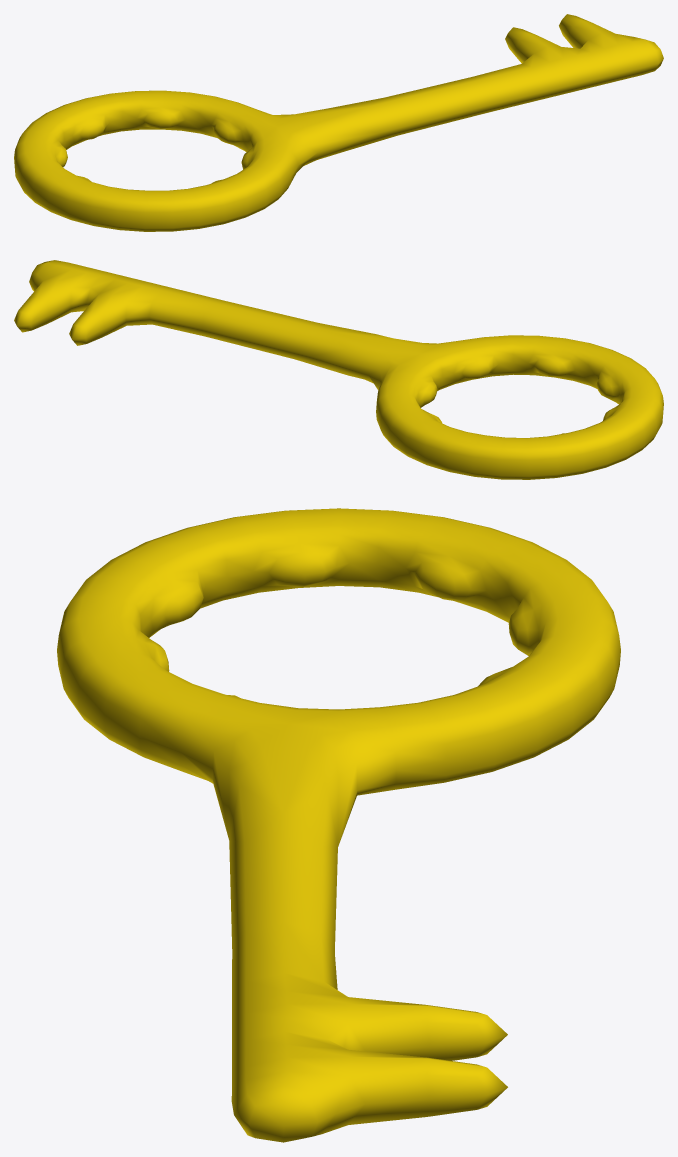
Rendered from Key.fbx.
The picture shows the model from 3 angles, top to bottom: view 1: azimuth 30°, elevation 25°; view 2: azimuth 150°, elevation 25°; view 3: azimuth 270°, elevation 25°; orthographic projection. The views are drawn at different scales.
Parts seen in each view (by area): view 1: Circle; view 2: Circle; view 3: Circle.
Boxes of the visible parts, box(x1,y1,x2,y2) form: Circle: box(14, 14, 663, 231); Circle: box(14, 260, 663, 479); Circle: box(57, 508, 620, 1142).
Bounding box in the file's own units: 487 × 24.4 × 195.
